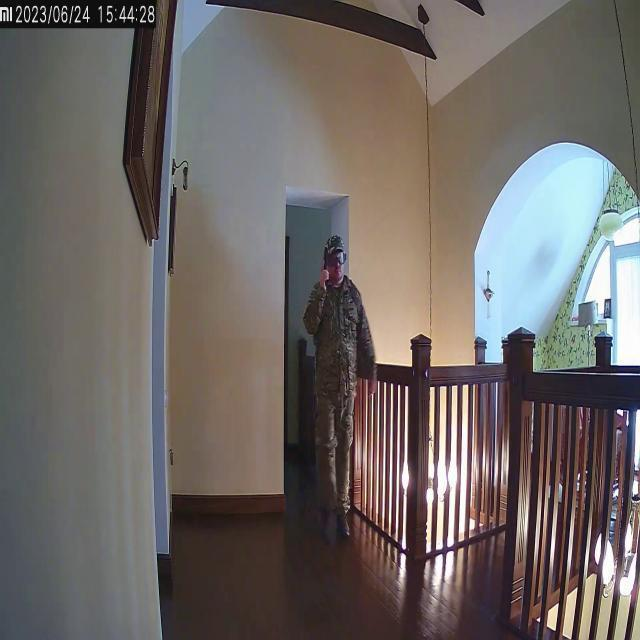pistol: (322, 244, 330, 284)
